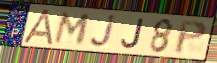8: (149, 17, 175, 55)
A: (21, 8, 56, 47)
J: (89, 14, 118, 50), (120, 18, 145, 50)
M: (52, 11, 93, 46)
P: (173, 19, 209, 56)
